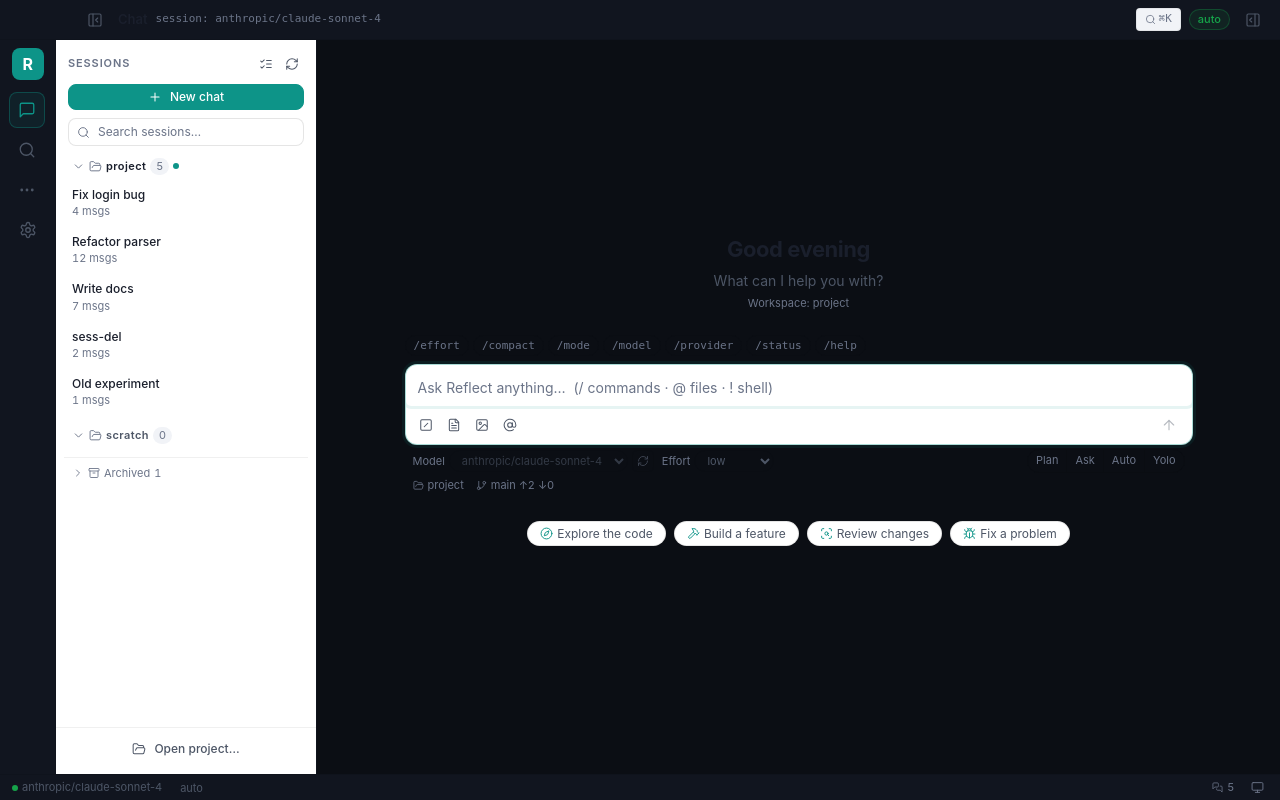
Scenario: stream errors mid-conversation › stream_error appends an error item to the turn transcript
The width and height of the screenshot is (1280, 800).
Type "vulnerable question" into the text box named "Message Reflect".
click(798, 386); type("vulnerable question")  # box [406,365,1192,406]
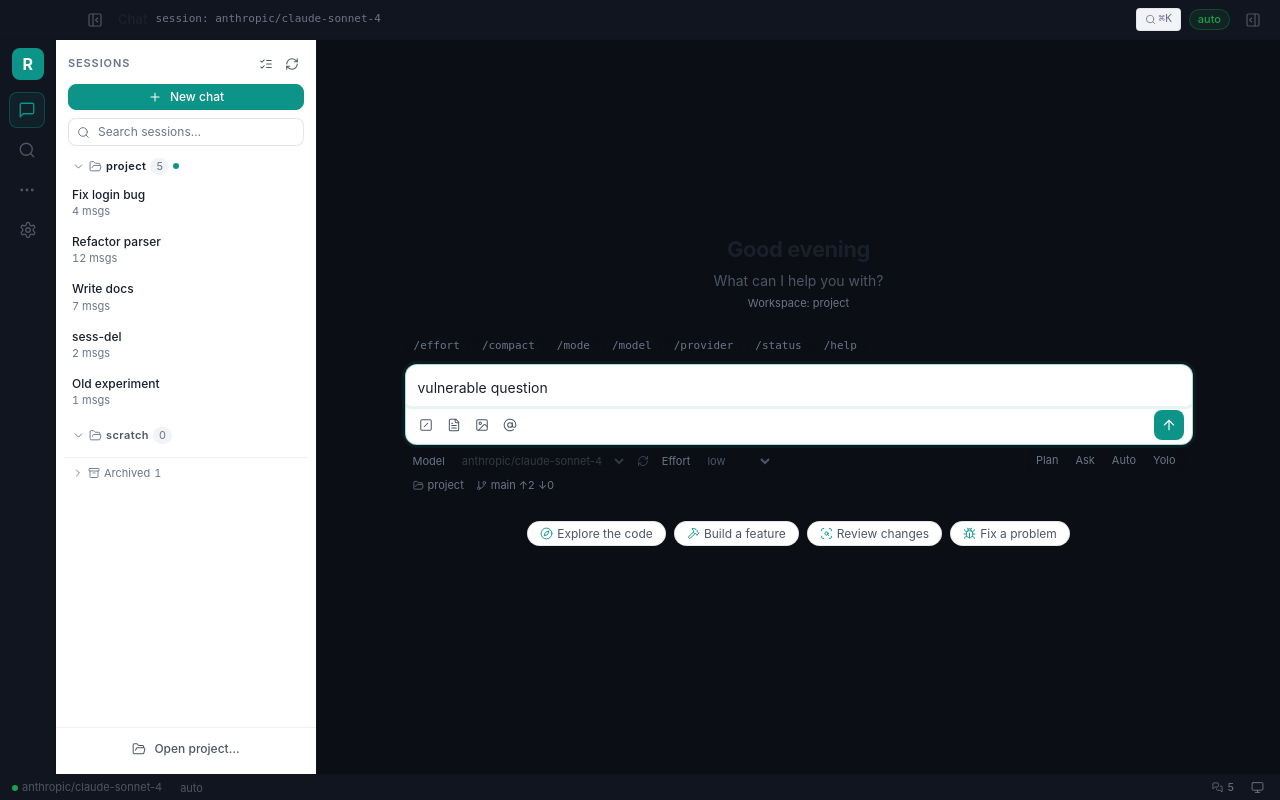
Press Enter in the text box named "Message Reflect", box [406,365,1192,406]
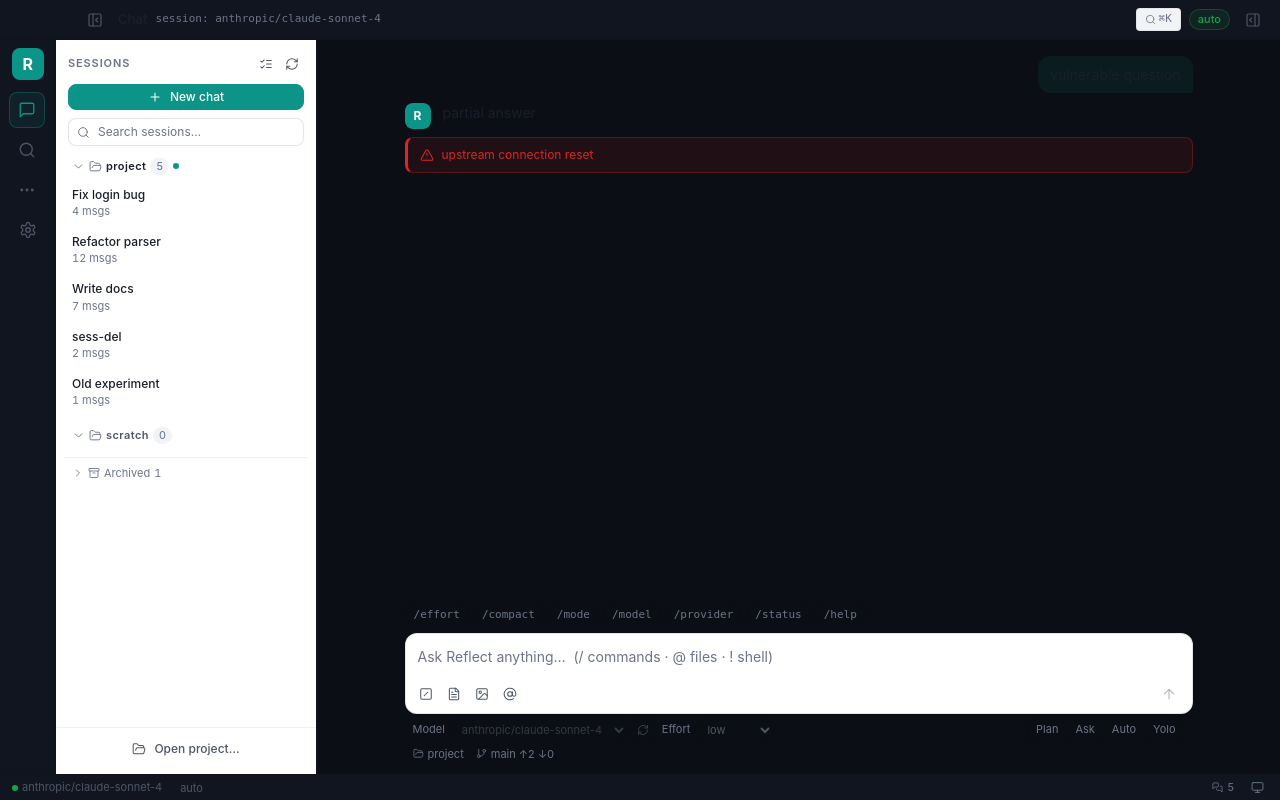
Expected: the element named "Conversation" shows "partial answer", [442,104,536,121]
Result: the element named "Conversation" shows "upstream connection reset" at [442,147,593,162]
